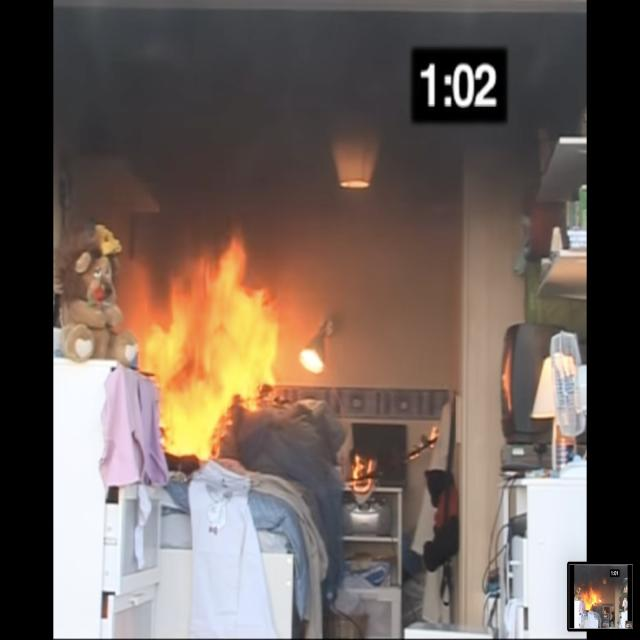Fogo: (114, 194, 458, 544)
